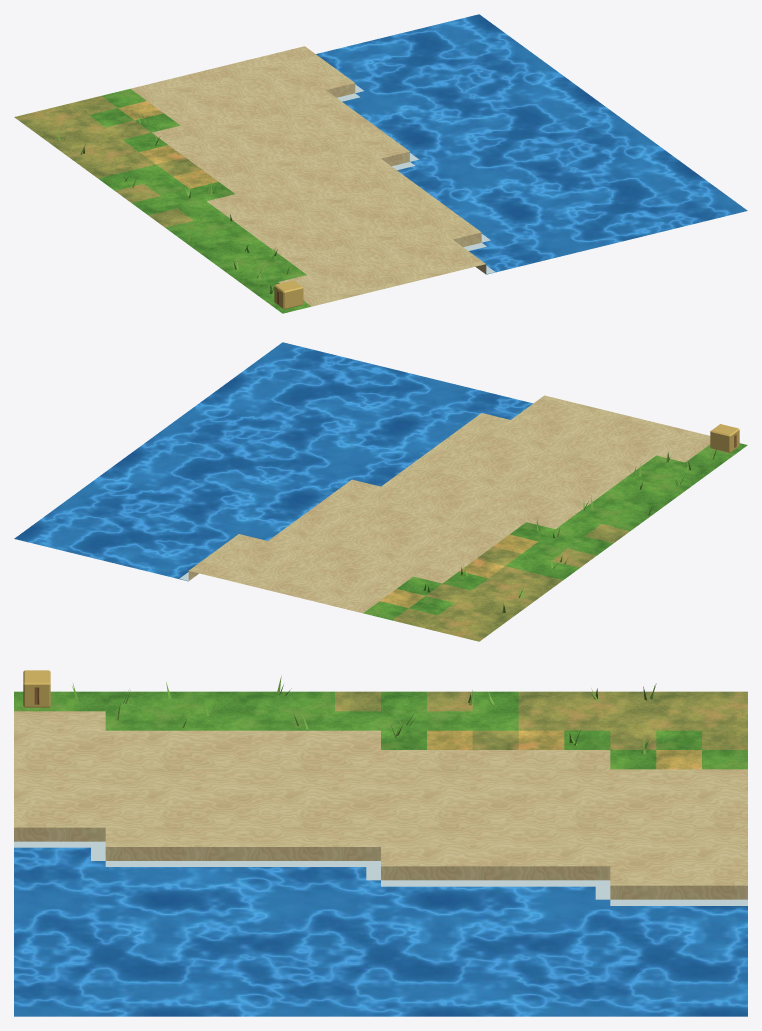
Rendered from chunk_11_7.glb.
3 renders of one model, top to bottom at view 1: azimuth 30°, elevation 25°; view 2: azimuth 150°, elevation 25°; view 3: azimuth 270°, elevation 25°, orthographic. The views are drawn at different scales.
Parts seen in each view (by area): view 1: chunk_11_7; view 2: chunk_11_7; view 3: chunk_11_7.
Part boxes in pixels (x1,y1,x2,y2): chunk_11_7: (14, 14, 747, 313); chunk_11_7: (14, 342, 747, 641); chunk_11_7: (14, 670, 747, 1016).
Bounding box in the file's own units: 16.08 × 0.95 × 16.
9 materials, 6 textured.
